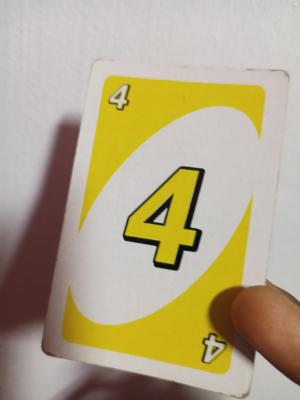num_4: (114, 149, 210, 276), (158, 330, 231, 378)
yellow: (106, 77, 145, 133)
